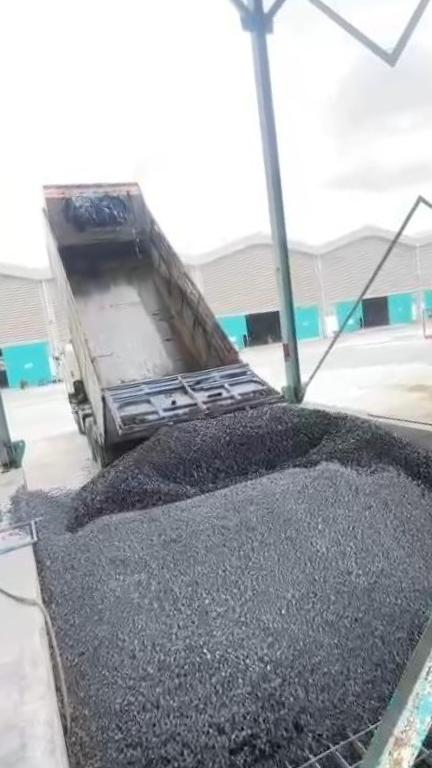gravel: (8, 404, 432, 768)
sand: (407, 375, 432, 428)
